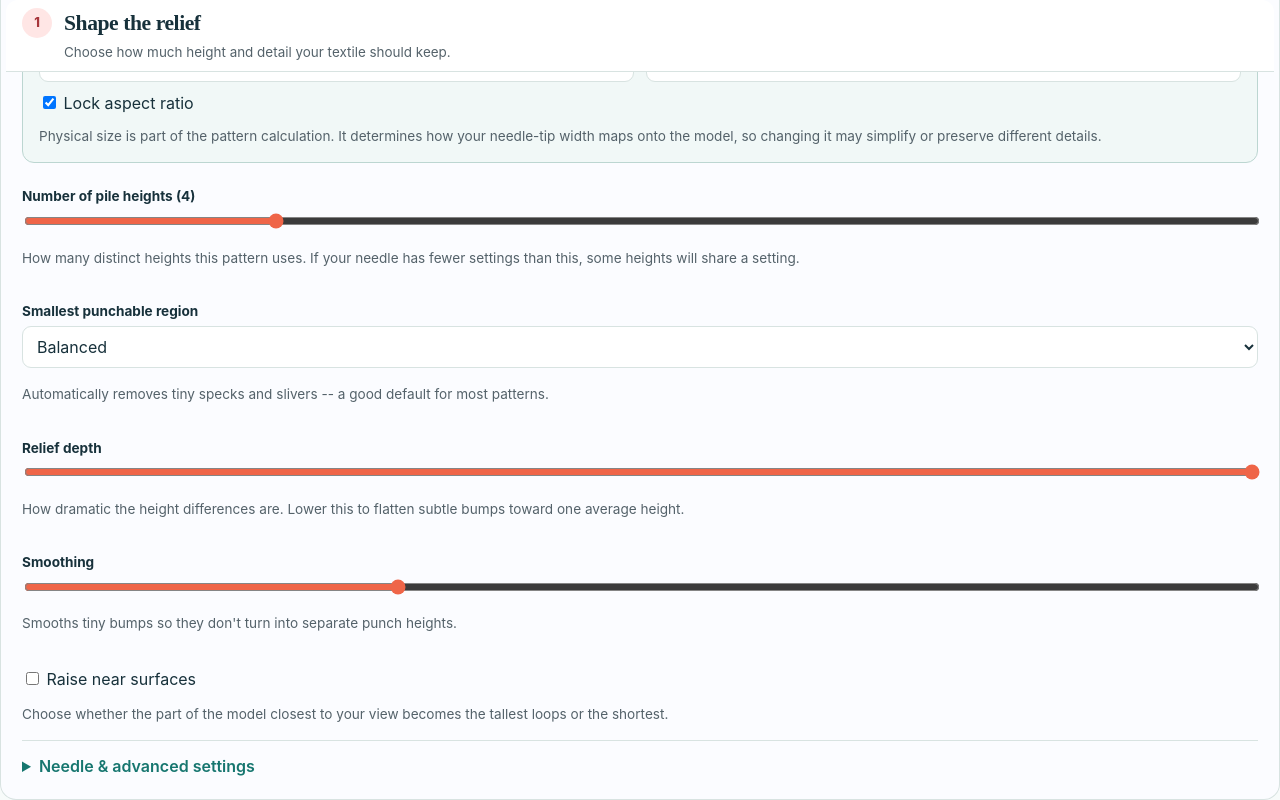
ReliefControls › keeps Advanced controls collapsed until their disclosure is opened
(page scrolled)
Check: the field labelled "Height band spacing" is not shown
Click the heading "Needle & advanced settings".
click(147, 766)  # box [39,756,255,776]
(page scrolled)
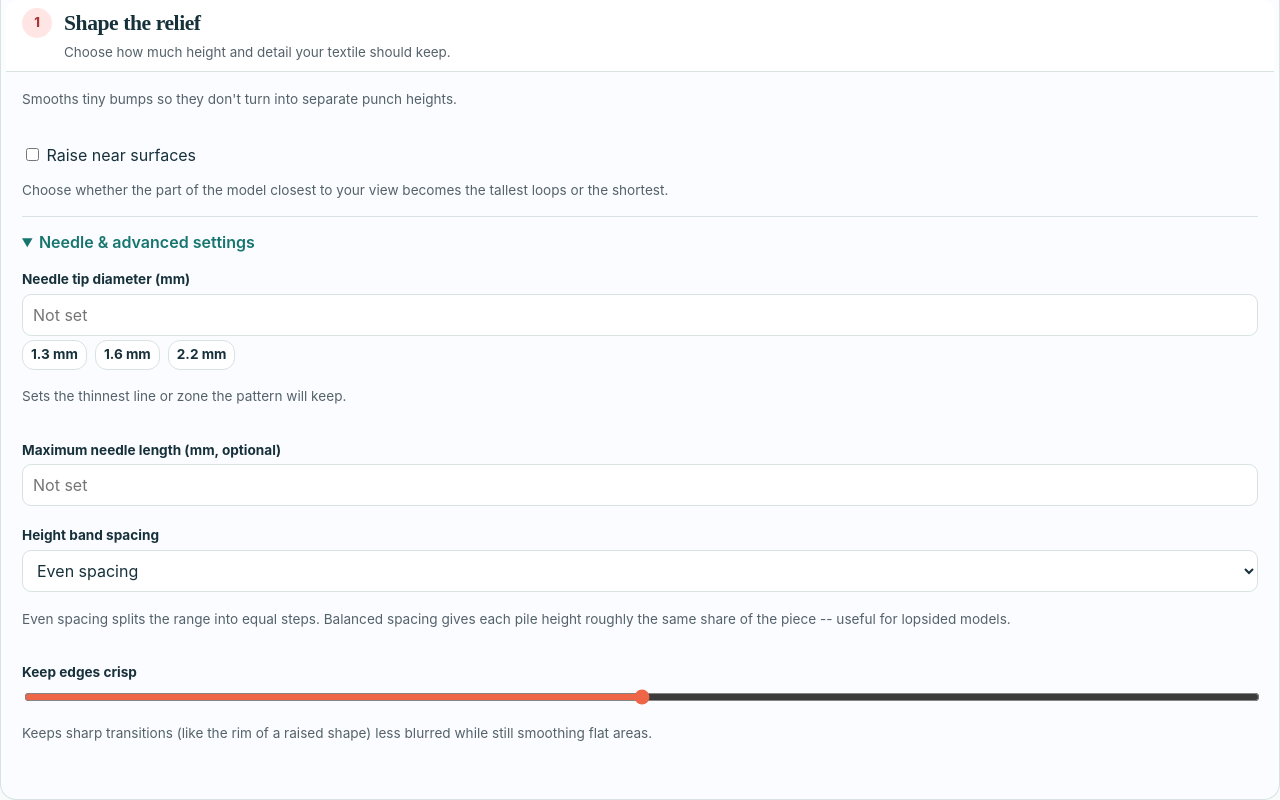
Check: the dropdown labelled "Height band spacing" is shown, box [22,550,1258,592]
